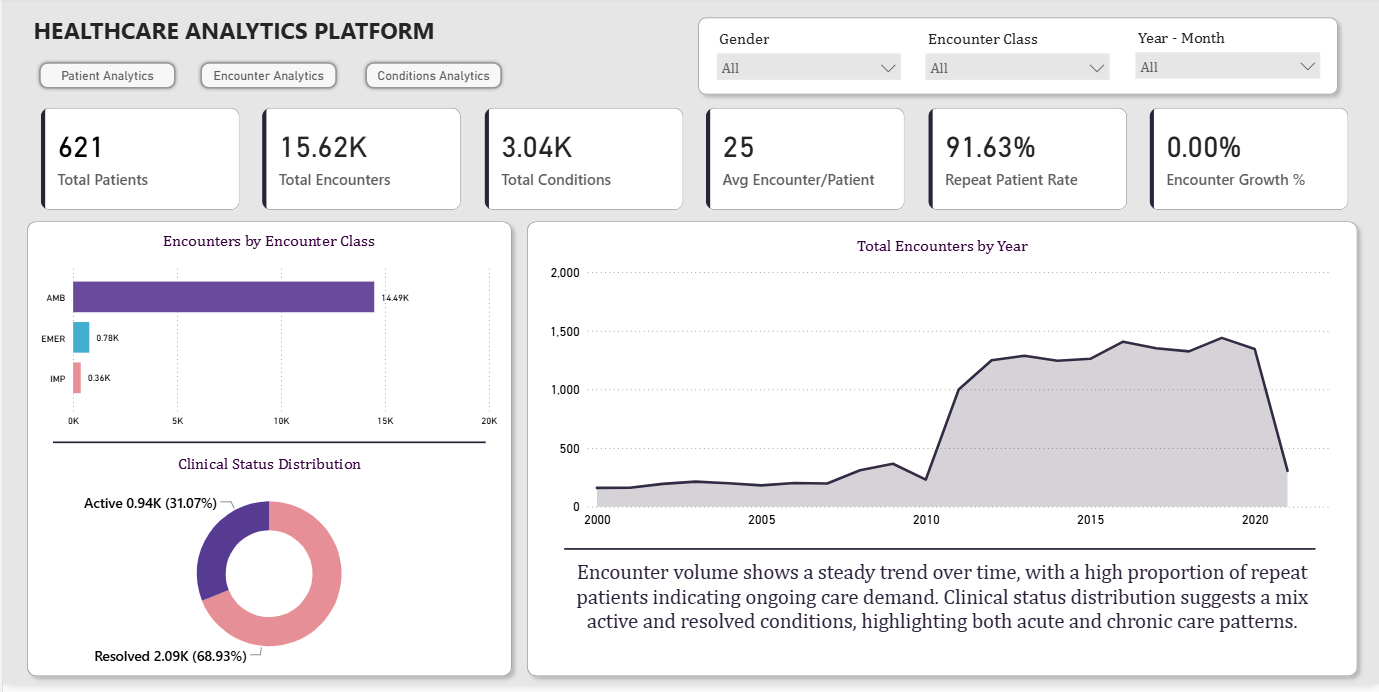

The page's visual inventory and layout, read from the dashboard file:
{"tool":"powerbi","page":{"name":"Main","canvas":[1600,800],"ordinal":0},"visuals":[{"type":"actionButton","box":[37.8,72.7,167.2,39.2],"z":0,"group":"g3"},{"type":"cardVisual","fields":{"Data":["Measures_Table.Total Patients"]},"box":[39.2,125,241.8,129.5],"z":0,"group":"g1"},{"type":"shape","box":[600.7,252.3,983.8,547.1],"z":0},{"type":"actionButton","box":[225.3,72.7,167.2,39.2],"z":1000,"group":"g3"},{"type":"group","id":"g1","title":"Group 1","box":[39.2,125,1532,129.4],"z":1000},{"type":"cardVisual","fields":{"Data":["Measures_Table.Total Encounters"]},"box":[297.2,125,241.8,129.5],"z":1000,"group":"g1"},{"type":"shape","box":[799.4,16,761.6,107.6],"z":2000},{"type":"actionButton","box":[417.2,72.7,167.2,39.2],"z":2000,"group":"g3"},{"type":"cardVisual","fields":{"Data":["Measures_Table.Total Conditions"]},"box":[555.1,125,241.8,129.5],"z":2000,"group":"g1"},{"type":"cardVisual","fields":{"Data":["Measures_Table.Avg Encounter Per Patient"]},"box":[813.1,125,241.8,129.5],"z":3000,"group":"g1"},{"type":"shape","box":[18.9,252.3,581.8,547.1],"z":3000,"group":"g2"},{"type":"lineChart","fields":{"Category":["Date.Year"],"Y":["Measures_Table.Total Encounters"]},"box":[630.7,279.1,922.4,345.3],"z":3000},{"type":"slicer","fields":{"Values":["Encounter.Encounter Class"]},"box":[1062.5,33.4,234,78.5],"z":4000},{"type":"cardVisual","fields":{"Data":["Measures_Table.Repeat Patient Rate"]},"box":[1071,125,241.8,129.5],"z":4000,"group":"g1"},{"type":"slicer","fields":{"Values":["Date.Year","Date.Month Name"]},"box":[1306.4,31.6,234.8,78.9],"z":5000},{"type":"cardVisual","fields":{"Data":["Measures_Table.Encounter Growth %"]},"box":[1329,125,241.8,129.5],"z":5000,"group":"g1"},{"type":"textbox","box":[630.7,649.6,922.4,134],"z":6000},{"type":"shape","box":[652.7,637,873.5,12.6],"z":7000},{"type":"textbox","box":[30,15.8,531.3,69.4],"z":8000},{"type":"clusteredBarChart","title":"Encounters by Encounter Class","fields":{"Category":["Encounter.Encounter Class"],"Y":["Measures_Table.Total Encounters"]},"box":[37.8,272.8,542.4,234.9],"z":8000,"group":"g2"},{"type":"group","id":"g2","title":"Group 2","box":[18.9,252.3,581.8,547.1],"z":9000},{"type":"shape","box":[58.3,507.7,503,20.5],"z":9000,"group":"g2"},{"type":"slicer","fields":{"Values":["Patient.Gender"]},"box":[819.8,33.4,234,78.5],"z":10000},{"type":"donutChart","title":"Clinical Status Distribution","fields":{"Category":["Condition.Clinical Status"],"Y":["Measures_Table.Total Conditions"]},"box":[39.4,531.4,540.8,252.3],"z":10000,"group":"g2"},{"type":"group","id":"g3","title":"Group 3","box":[37.8,72.7,546.5,39.2],"z":11000}]}

Visuals, with their boxes in screenshot pixels (x1, y1, x2, y2), scaled from the page's 1600x800 canvas onto the 1379x692 screenshot:
actionButton: <box>33,63,177,97</box>
cardVisual - Measures_Table.Total Patients: <box>34,108,242,220</box>
shape: <box>518,218,1366,691</box>
actionButton: <box>194,63,338,97</box>
"Group 1" group: <box>34,108,1354,220</box>
cardVisual - Measures_Table.Total Encounters: <box>256,108,465,220</box>
shape: <box>689,14,1345,107</box>
actionButton: <box>360,63,504,97</box>
cardVisual - Measures_Table.Total Conditions: <box>478,108,687,220</box>
cardVisual - Measures_Table.Avg Encounter Per Patient: <box>701,108,909,220</box>
shape: <box>16,218,518,691</box>
lineChart - Date.Year x Measures_Table.Total Encounters: <box>544,241,1339,540</box>
slicer - Encounter.Encounter Class: <box>916,29,1117,97</box>
cardVisual - Measures_Table.Repeat Patient Rate: <box>923,108,1131,220</box>
slicer - Date.Year x Date.Month Name: <box>1126,27,1328,96</box>
cardVisual - Measures_Table.Encounter Growth %: <box>1145,108,1354,220</box>
textbox: <box>544,562,1339,678</box>
shape: <box>563,551,1315,562</box>
textbox: <box>26,14,484,74</box>
"Encounters by Encounter Class" clusteredBarChart: <box>33,236,500,439</box>
"Group 2" group: <box>16,218,518,691</box>
shape: <box>50,439,484,457</box>
slicer - Patient.Gender: <box>707,29,908,97</box>
"Clinical Status Distribution" donutChart: <box>34,460,500,678</box>
"Group 3" group: <box>33,63,504,97</box>
